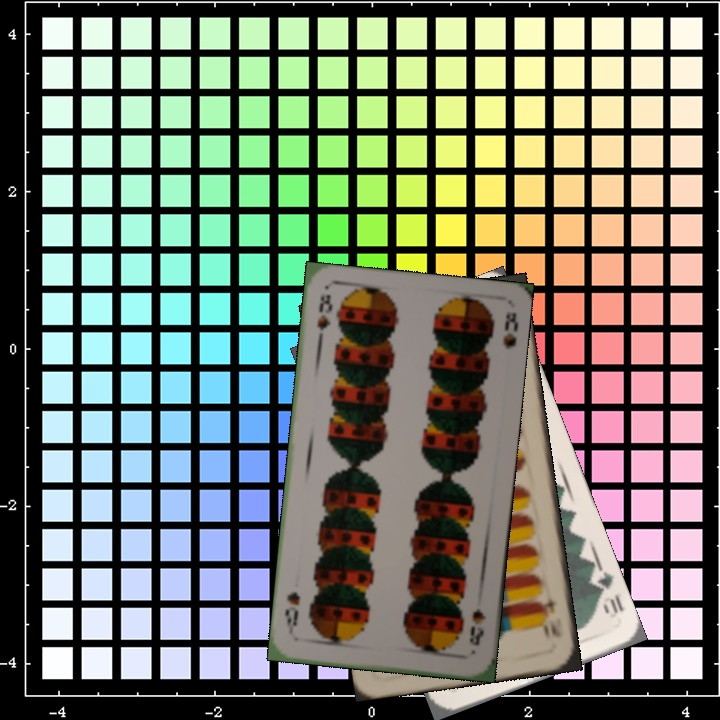E10: (536, 593, 564, 643)
G10: (586, 565, 626, 617)
S8: (313, 290, 335, 347), (465, 605, 488, 648)
